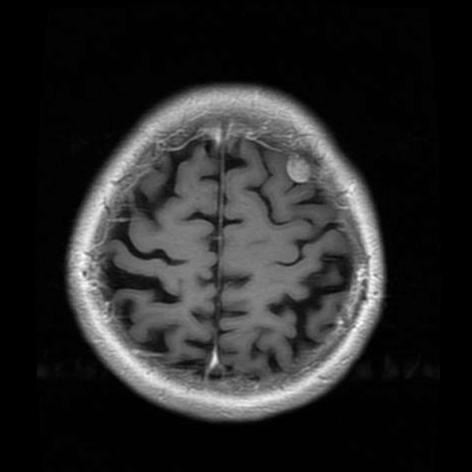Tumour-Pituitary: (284, 144, 324, 186)
